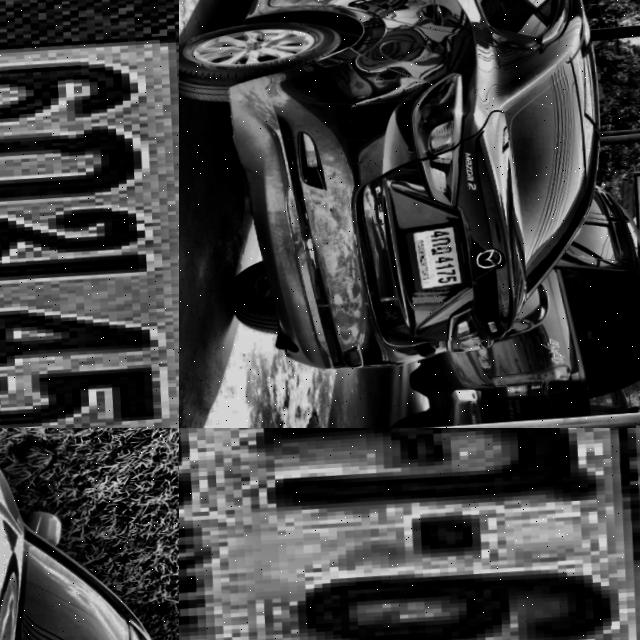license-plate: (179, 428, 640, 640), (0, 0, 179, 428), (405, 221, 471, 292)
